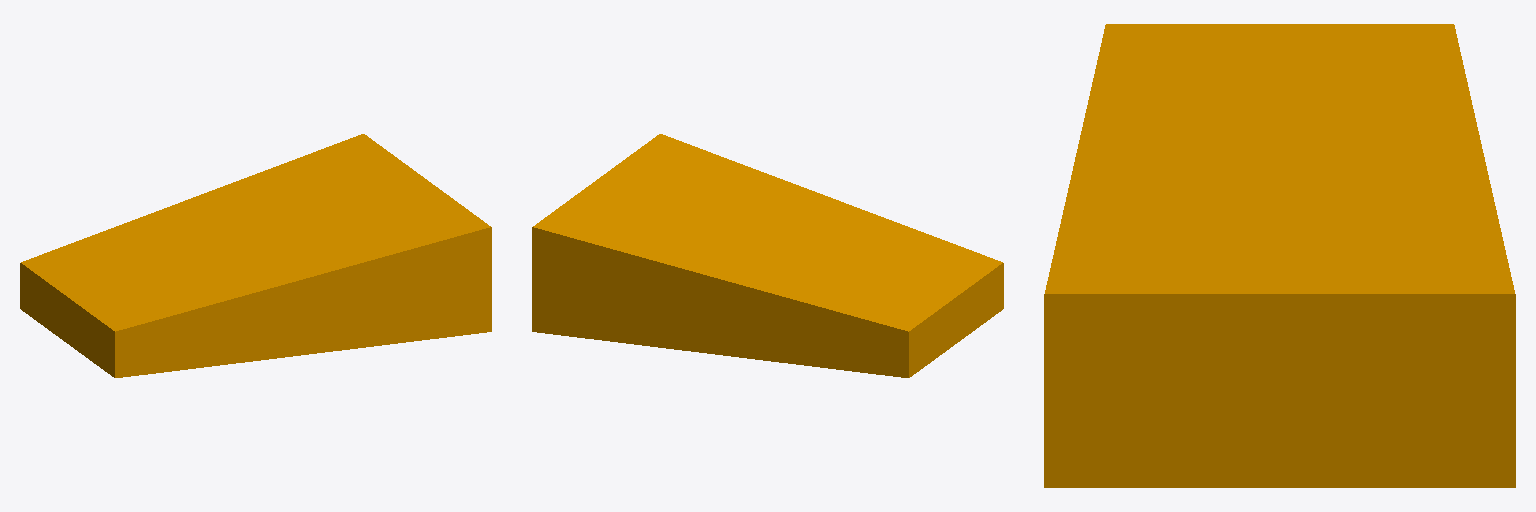
URDF robot description (assembly_jig):
<?xml version="1.0" ?>
<robot name="assembly_jig">

    <link name="assembly_jig">
        <visual>
            <origin rpy="0 0 0" xyz="0 0 0"/>
            <geometry>
                <mesh filename="./environment/assembly_jig.stl"/>
            </geometry>
        </visual>
        <inertial>
            <mass value="0"/>
            <origin rpy="0 0 0" xyz="0 0 0"/>
            <inertia ixx="0" ixy="0.0" ixz="0.0" iyy="0" iyz="0" izz="0"/>
        </inertial>
        <collision>
            <origin rpy="0 0 0" xyz="0 0 0"/>
            <geometry>
                <mesh filename="./environment/assembly_jig.stl"/>
            </geometry>
        </collision>
    </link>

</robot>

--- Facts derived from the render (not from the file) ---
Views: 3 orthographic renders of the robot side by side, from view 1: azimuth 30°, elevation 25°; view 2: azimuth 150°, elevation 25°; view 3: azimuth 270°, elevation 25°.
Robot: assembly_jig — 1 links, 0 joints (none); root link assembly_jig; default pose: every joint at zero.
Visible links, largest first — view 1: assembly_jig; view 2: assembly_jig; view 3: assembly_jig.
Boxes of the visible links, <box> form: assembly_jig: <box>20,134,491,377</box>; assembly_jig: <box>532,134,1003,377</box>; assembly_jig: <box>1044,24,1515,487</box>.
Bounding box of the posed robot: 0.122 × 0.075 × 0.034 m (x, y, z).
Meshes: 1 distinct files referenced, 1 mesh visuals loaded (1 binary STL).